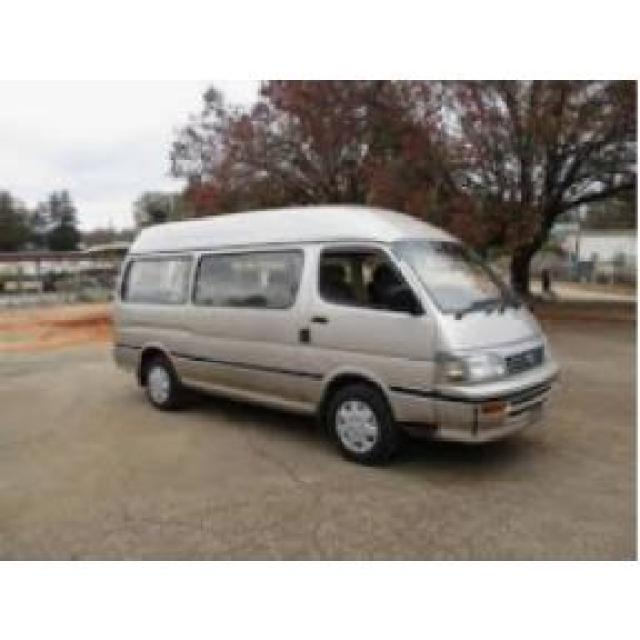Van: (112, 195, 562, 468)
